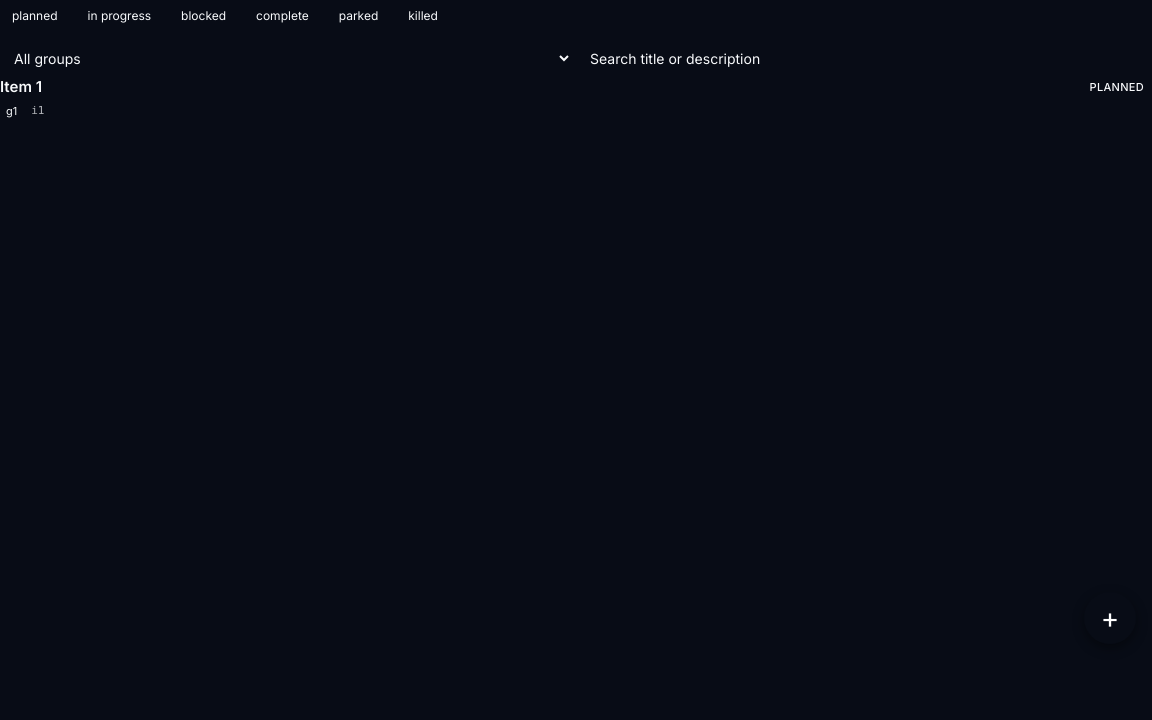
RoadmapTab FAB and create flow (S03) › FAB opens CreateItemSheet
This screenshot has width=1152, height=720.
Click the button with test id "mobile-roadmap-fab" at (1110, 618), box top-left (1084, 592), bottom-right (1136, 644)
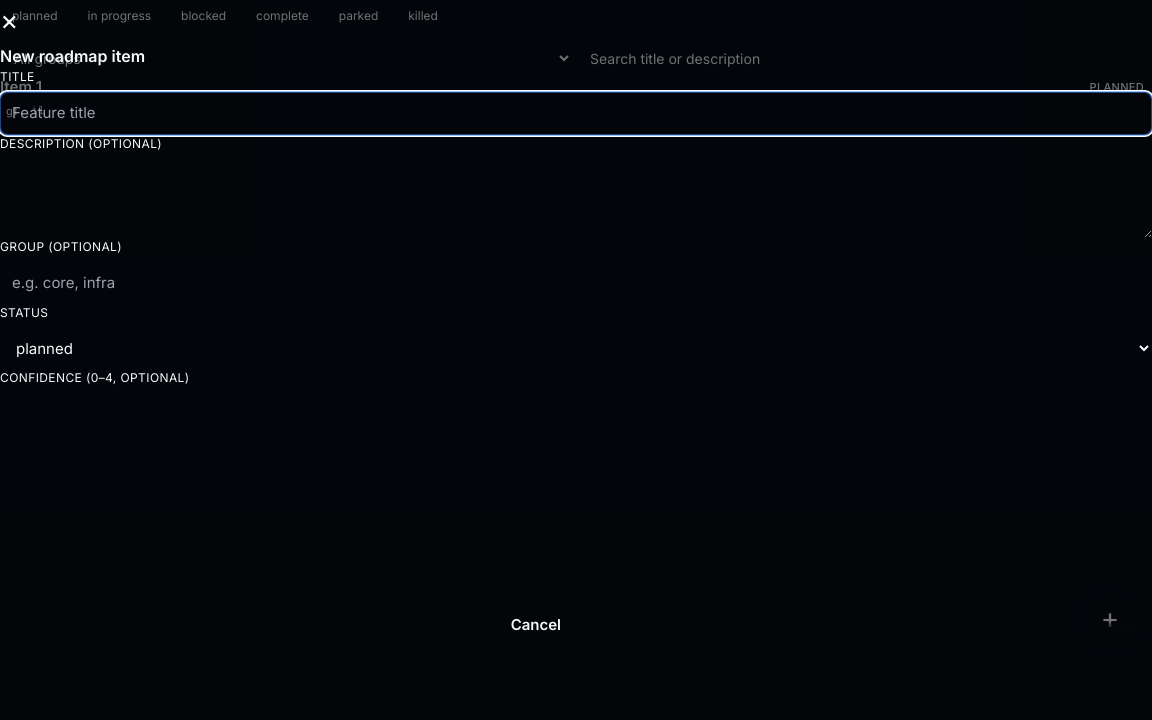
Expected: the dialog with test id "mobile-create-sheet" is shown
